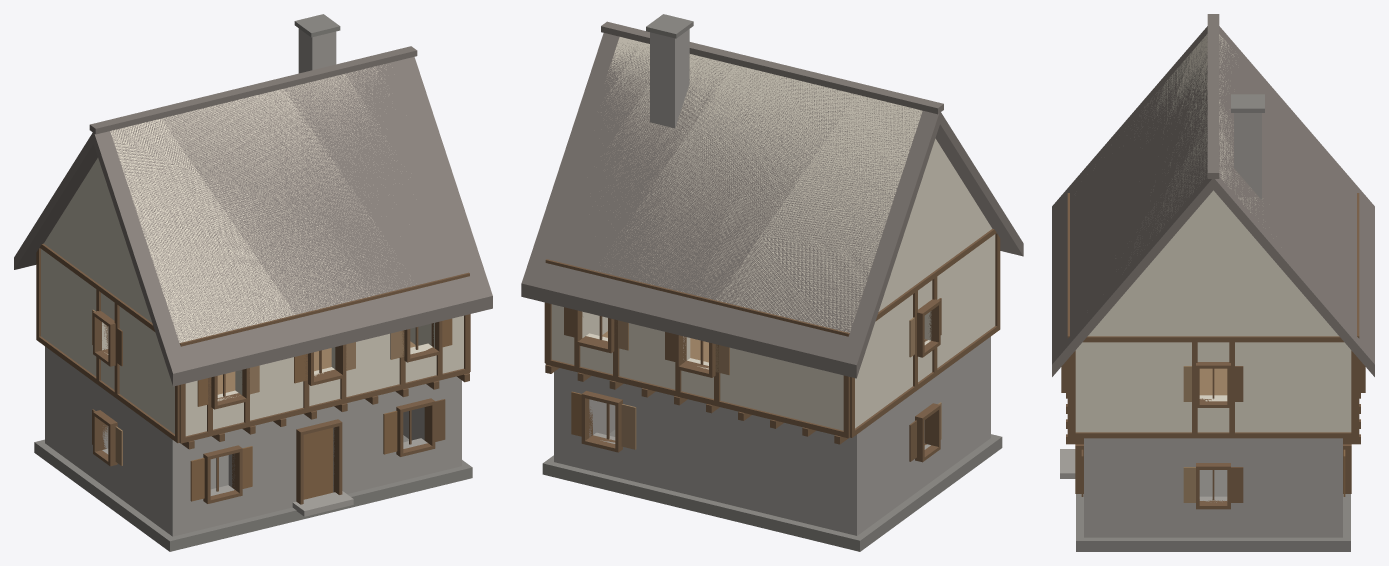
Rendered from House_Timber2.fbx.
3 renders of one model, left to right at view 1: azimuth 30°, elevation 25°; view 2: azimuth 150°, elevation 25°; view 3: azimuth 270°, elevation 25°, orthographic. The views are drawn at different scales.
Parts seen in each view (by area): view 1: House_Timber2; view 2: House_Timber2; view 3: House_Timber2.
Part boxes in pixels (x1,y1,x2,y2): House_Timber2: (14, 14, 492, 551); House_Timber2: (521, 14, 1023, 551); House_Timber2: (1052, 14, 1374, 551).
Bounding box in the file's own units: 9.45 × 8.1 × 11.51.
